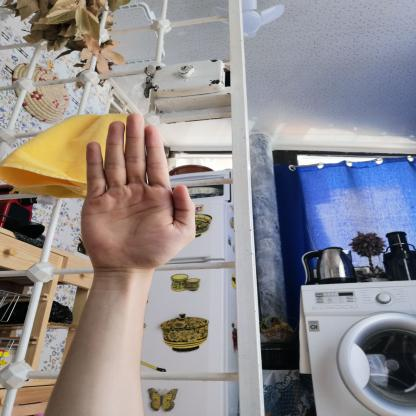SEEN: (71, 108, 202, 275)
